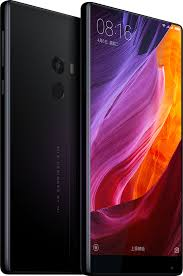mi: (77, 1, 183, 276)
